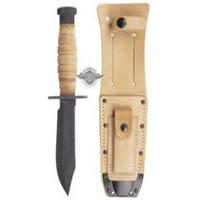knife: (47, 5, 86, 198)
